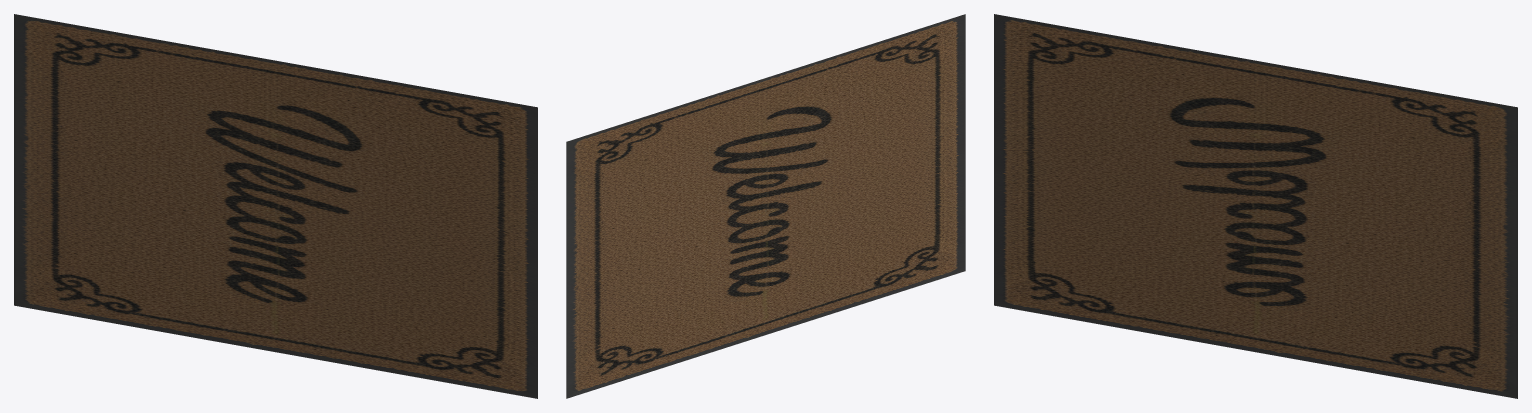
Rendered from welcome_board.fbx.
3 views of the same model, side by side, from view 1: azimuth 90°, elevation 25°; view 2: azimuth 150°, elevation 25°; view 3: azimuth 270°, elevation 25° (orthographic). The views are drawn at different scales.
Parts seen in each view (by area): view 1: Plane.004; view 2: Plane.004; view 3: Plane.004.
Boxes of the visible parts, x1,y1,x2,y2 form: Plane.004: (14,14,537,398); Plane.004: (566,14,965,398); Plane.004: (994,14,1517,398).
Bounding box in the file's own units: 0.3761 × 0.8918 × 0.5478.
Materials: 1 (1 with a texture image).
